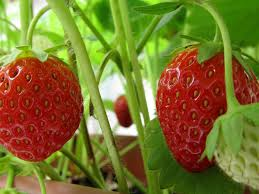strawberry: (156, 42, 259, 175), (1, 52, 85, 163), (114, 93, 134, 128)
